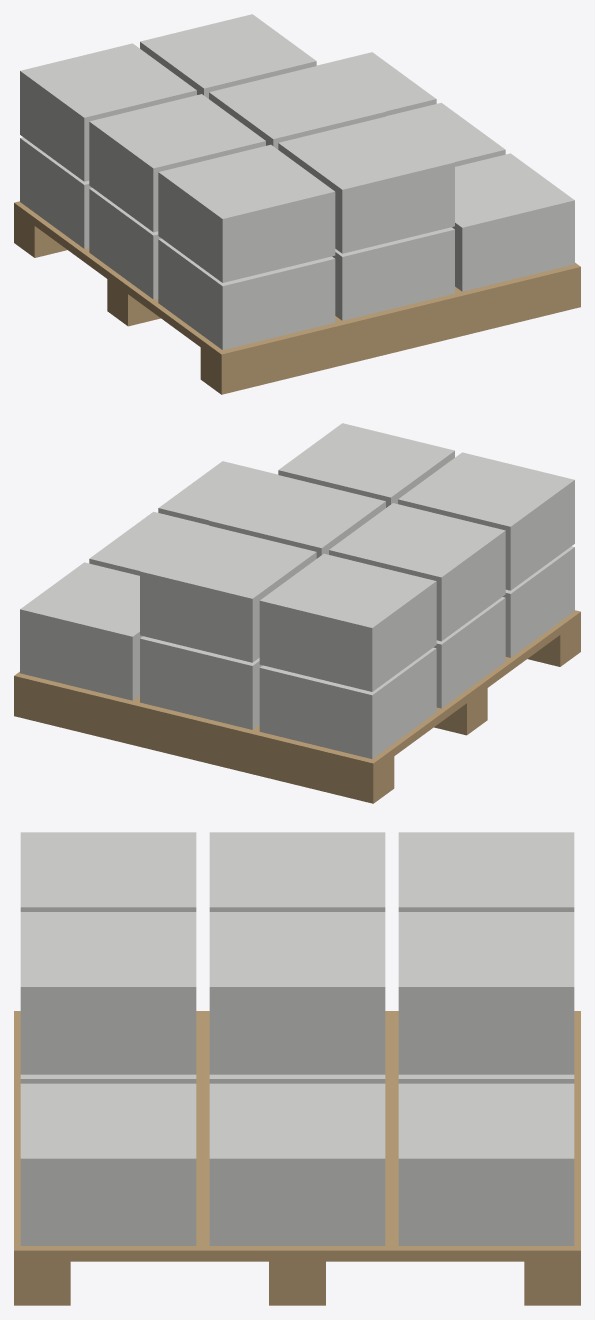
File: pallet_mp_15.glb
The picture shows the model from 3 angles, top to bottom: view 1: azimuth 30°, elevation 25°; view 2: azimuth 150°, elevation 25°; view 3: azimuth 270°, elevation 25°; orthographic projection. The views are drawn at different scales.
Visible parts, largest first — view 1: PalletMP; view 2: PalletMP; view 3: PalletMP.
Part boxes in pixels (x1=…): PalletMP: x1=14, y1=14, x2=580, y2=394; PalletMP: x1=14, y1=423, x2=580, y2=803; PalletMP: x1=14, y1=832, x2=580, y2=1305.
Size of the model in its own units: 1 by 0.46 by 1.
